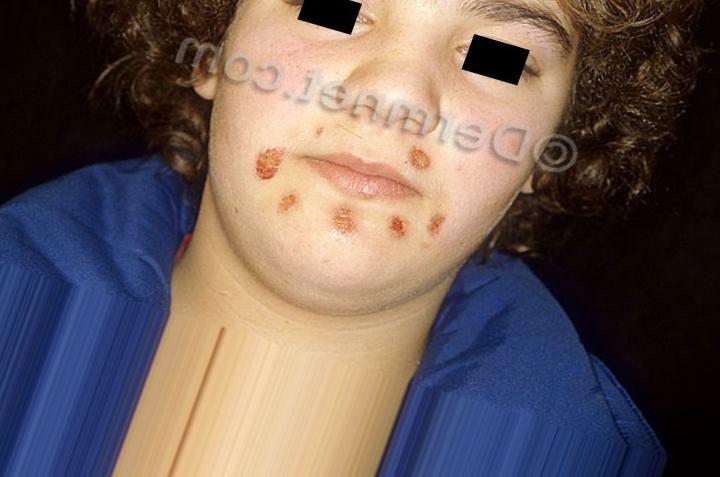Acne: (390, 215, 451, 251), (258, 143, 291, 193), (403, 148, 449, 182), (336, 206, 367, 239), (275, 192, 308, 210), (305, 120, 331, 141)
